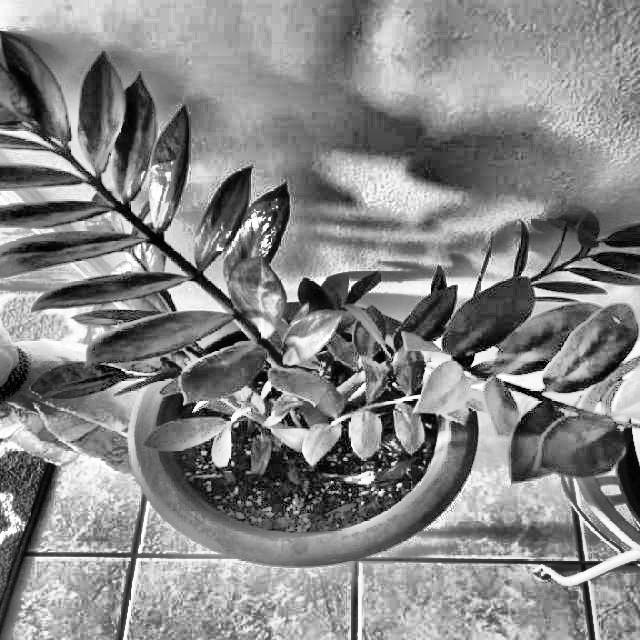plants: (0, 24, 556, 526)
